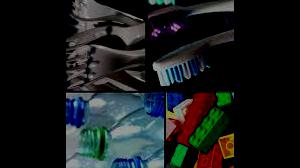Plastic: (176, 110, 232, 167), (154, 39, 212, 87), (187, 102, 231, 152), (106, 150, 164, 167)
